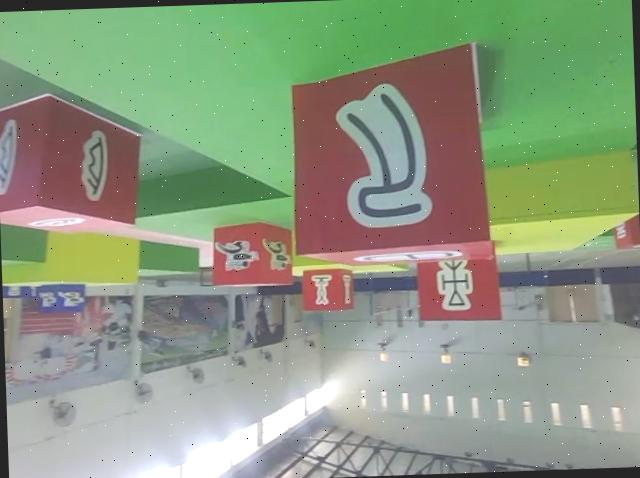R1: (208, 218, 295, 291)
R2 Fake: (285, 40, 496, 270)
R2 Real: (0, 89, 145, 237), (412, 237, 504, 324), (301, 265, 356, 315)
